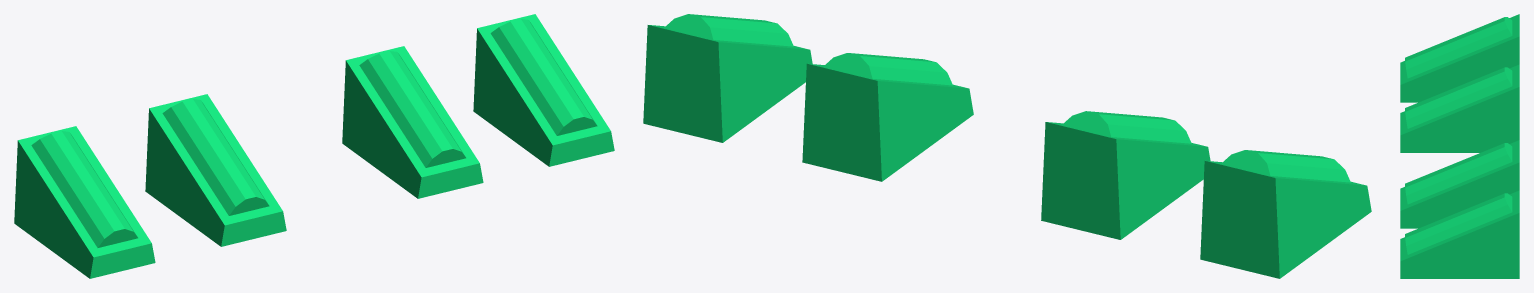
Rendered from Encounter_003_StasisPods.fbx.
The picture shows the model from 3 angles, left to right: view 1: azimuth 30°, elevation 25°; view 2: azimuth 150°, elevation 25°; view 3: azimuth 270°, elevation 25°; orthographic projection. The views are drawn at different scales.
Parts seen in each view (by area): view 1: Encounter_003_StasisPods; view 2: Encounter_003_StasisPods; view 3: Encounter_003_StasisPods.
Boxes of the visible parts, x1,y1,x2,y2 form: Encounter_003_StasisPods: (14,14,614,278); Encounter_003_StasisPods: (643,14,1371,278); Encounter_003_StasisPods: (1400,14,1519,278).
Bounding box in the file's own units: 1600 × 263 × 400.
